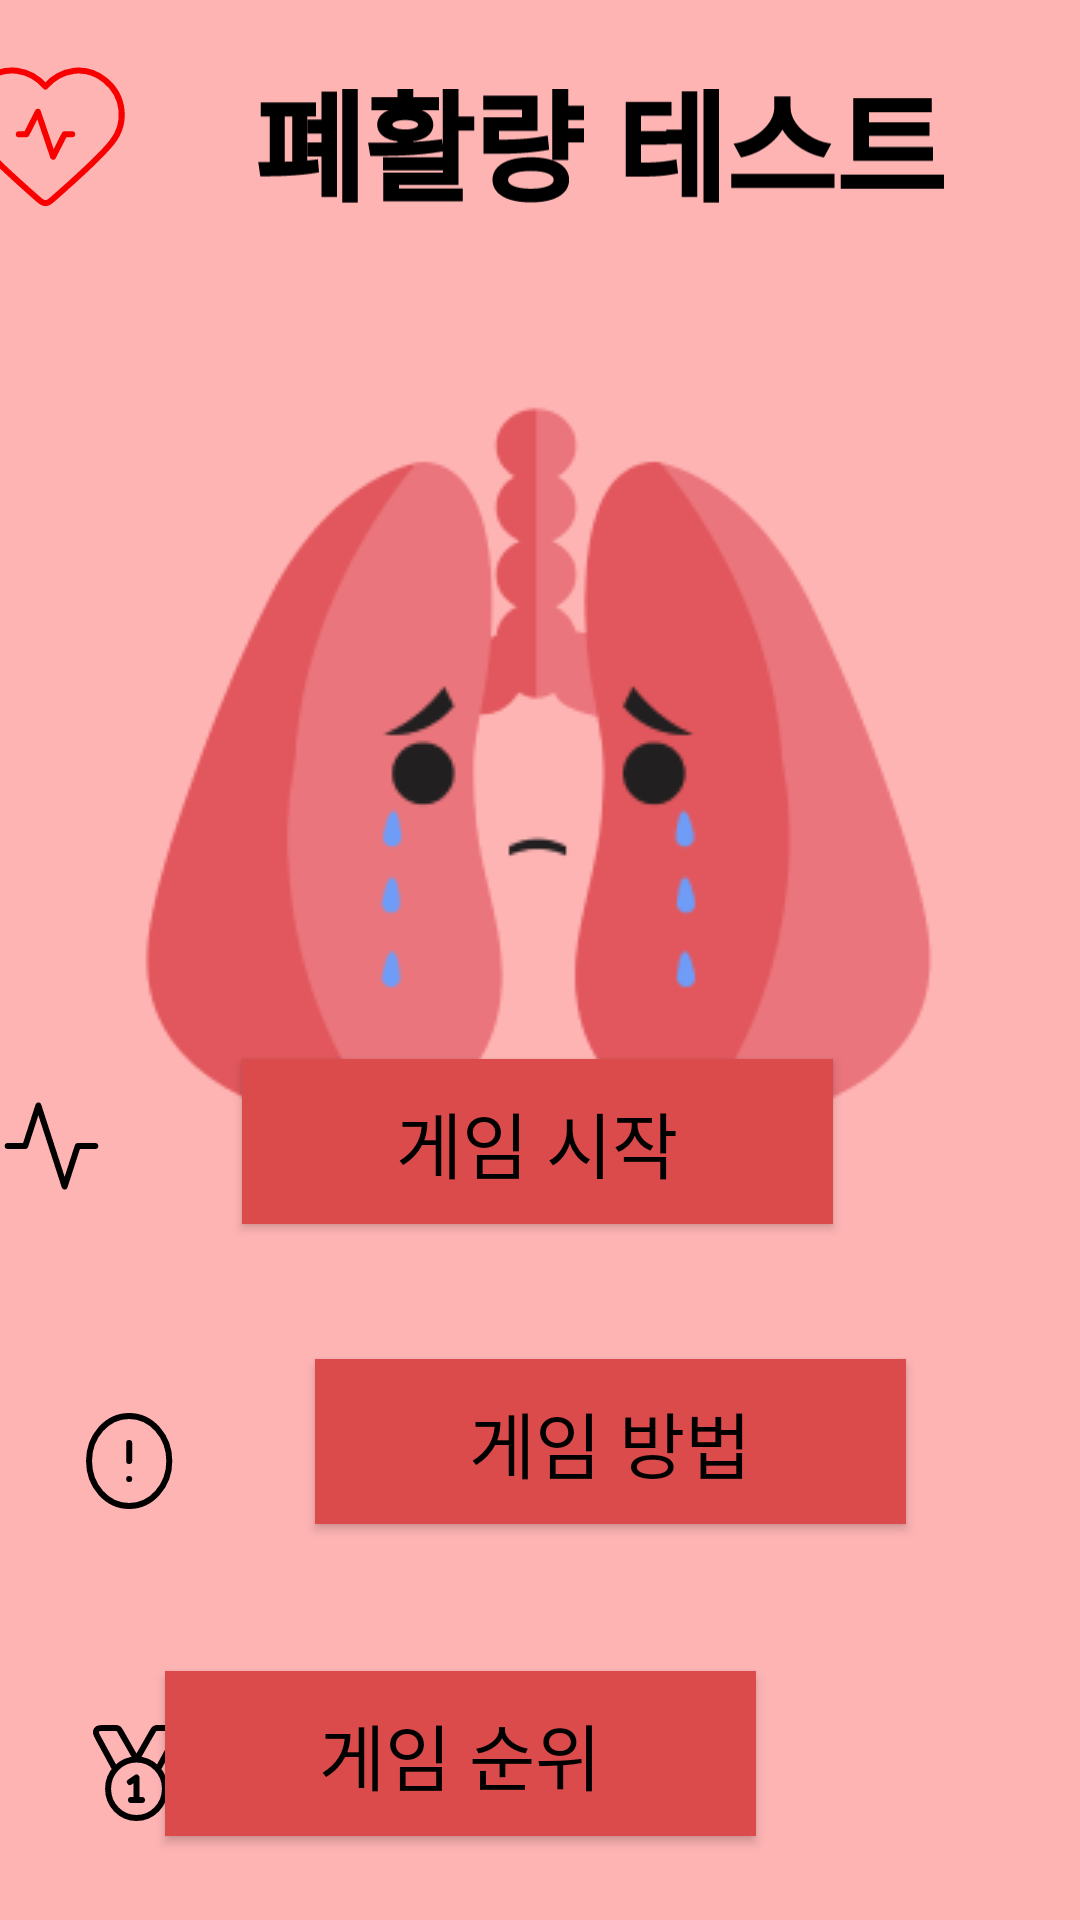

Icons on this 1080px x 1920px Android screen, each with its box as (x1, y1, x2, y2):
activity: (4, 1102, 99, 1190)
alert circle: (86, 1413, 173, 1509)
